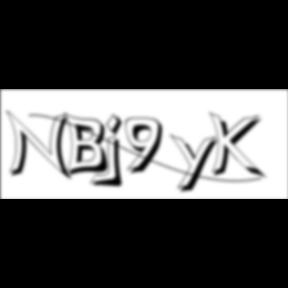9: (124, 117, 170, 177)
B: (65, 111, 115, 179)
K: (210, 110, 268, 182)
N: (6, 109, 76, 183)
j: (104, 113, 130, 191)
y: (170, 132, 224, 196)
